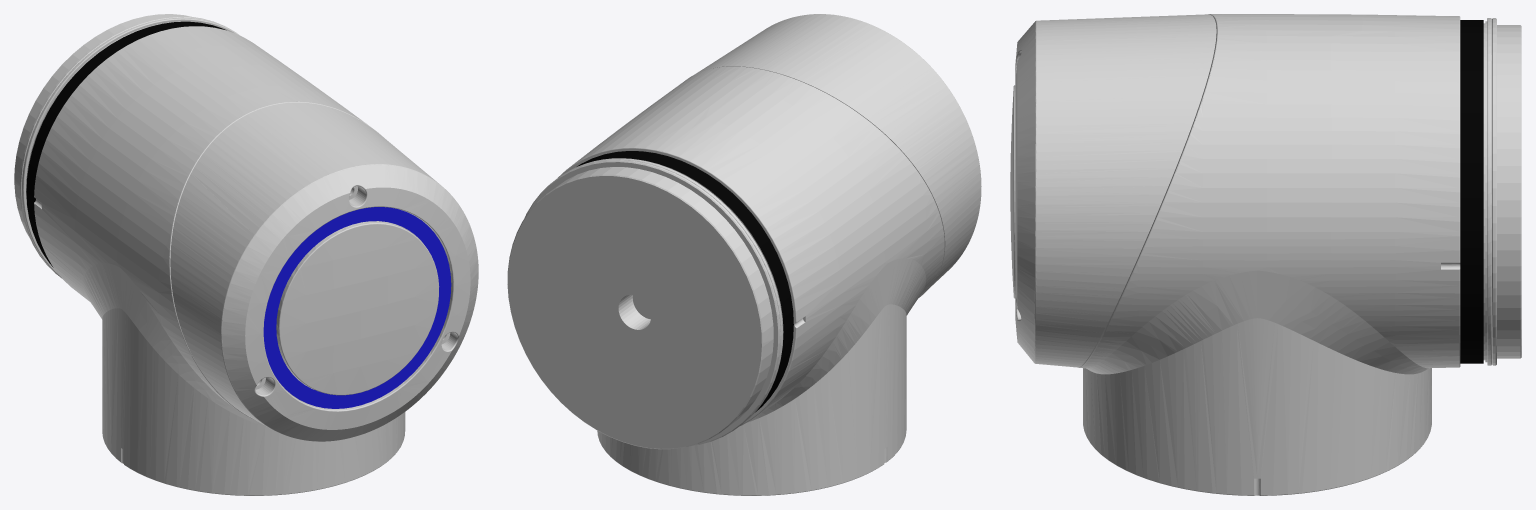
Rendered from symphony20_4_w.dae.
3 views of the same model, side by side, from view 1: azimuth 30°, elevation 25°; view 2: azimuth 150°, elevation 25°; view 3: azimuth 270°, elevation 25° (orthographic). The views are drawn at different scales.
Parts seen in each view (by area): view 1: link4; view 2: link4; view 3: link4.
Part boxes in pixels (x1,y1,x2,y2): link4: (14, 14, 478, 495); link4: (507, 14, 981, 495); link4: (1010, 14, 1521, 495).
Bounding box in the file's own units: 0.0917 × 0.1318 × 0.1114.
